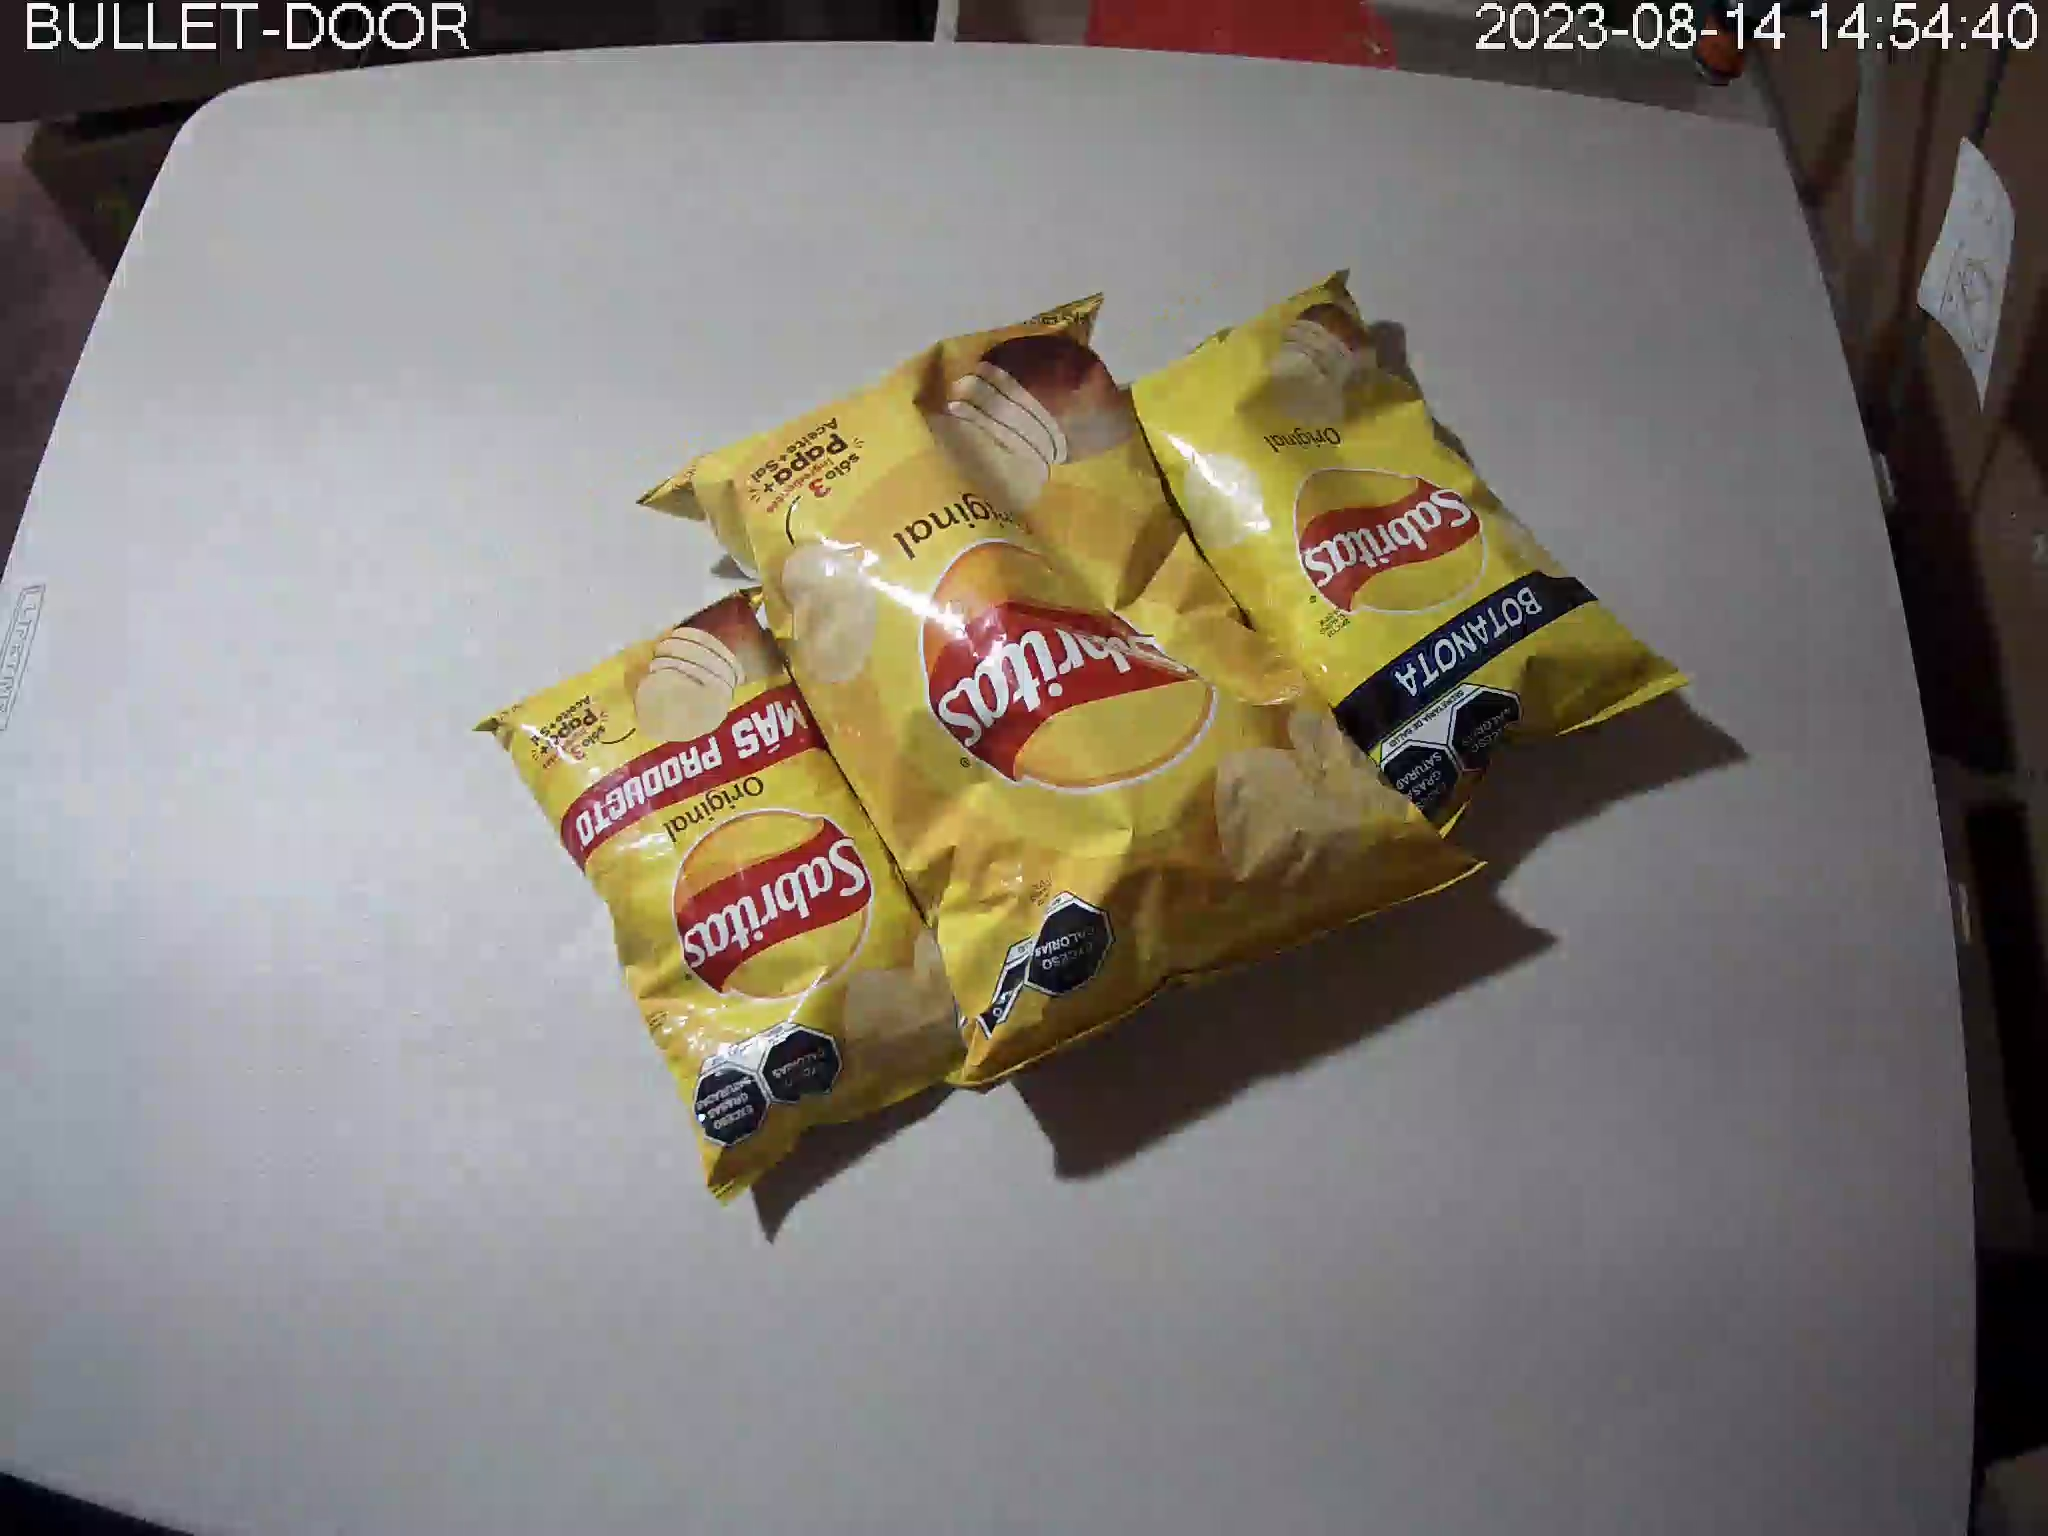Sabritas_160_F: (634, 294, 1496, 1092)
Sabritas_45_F: (472, 579, 1000, 1204)
Sabritas_64_F: (1090, 271, 1690, 845)
